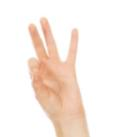left: (25, 15, 80, 118)
